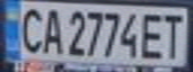2: (63, 6, 87, 56)
4: (118, 9, 142, 58)
7: (81, 7, 106, 57), (103, 8, 121, 57)
A: (39, 4, 66, 55)
C: (12, 3, 45, 54)
E: (139, 10, 169, 60)
T: (157, 10, 190, 60)
